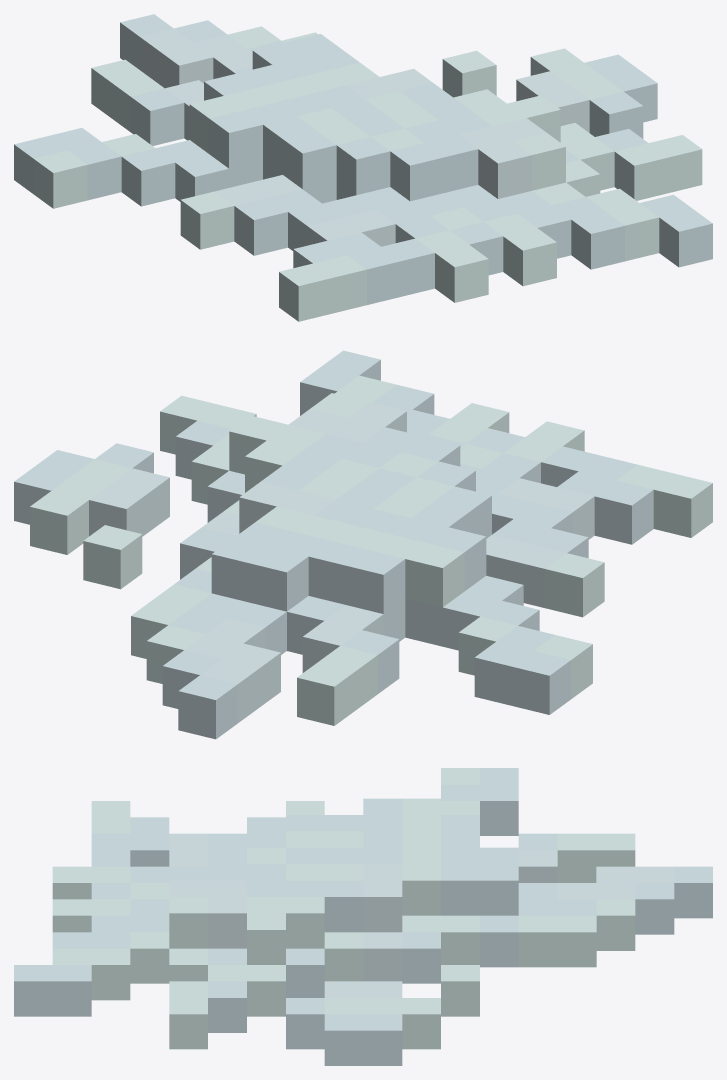
File: grass_patches-2.obj
3 renders of one model, top to bottom at view 1: azimuth 30°, elevation 25°; view 2: azimuth 150°, elevation 25°; view 3: azimuth 270°, elevation 25°, orthographic. The views are drawn at different scales.
Size of the model in its own units: 1.6 by 0.2 by 1.8.
Materials: 1 (1 with a texture image).
